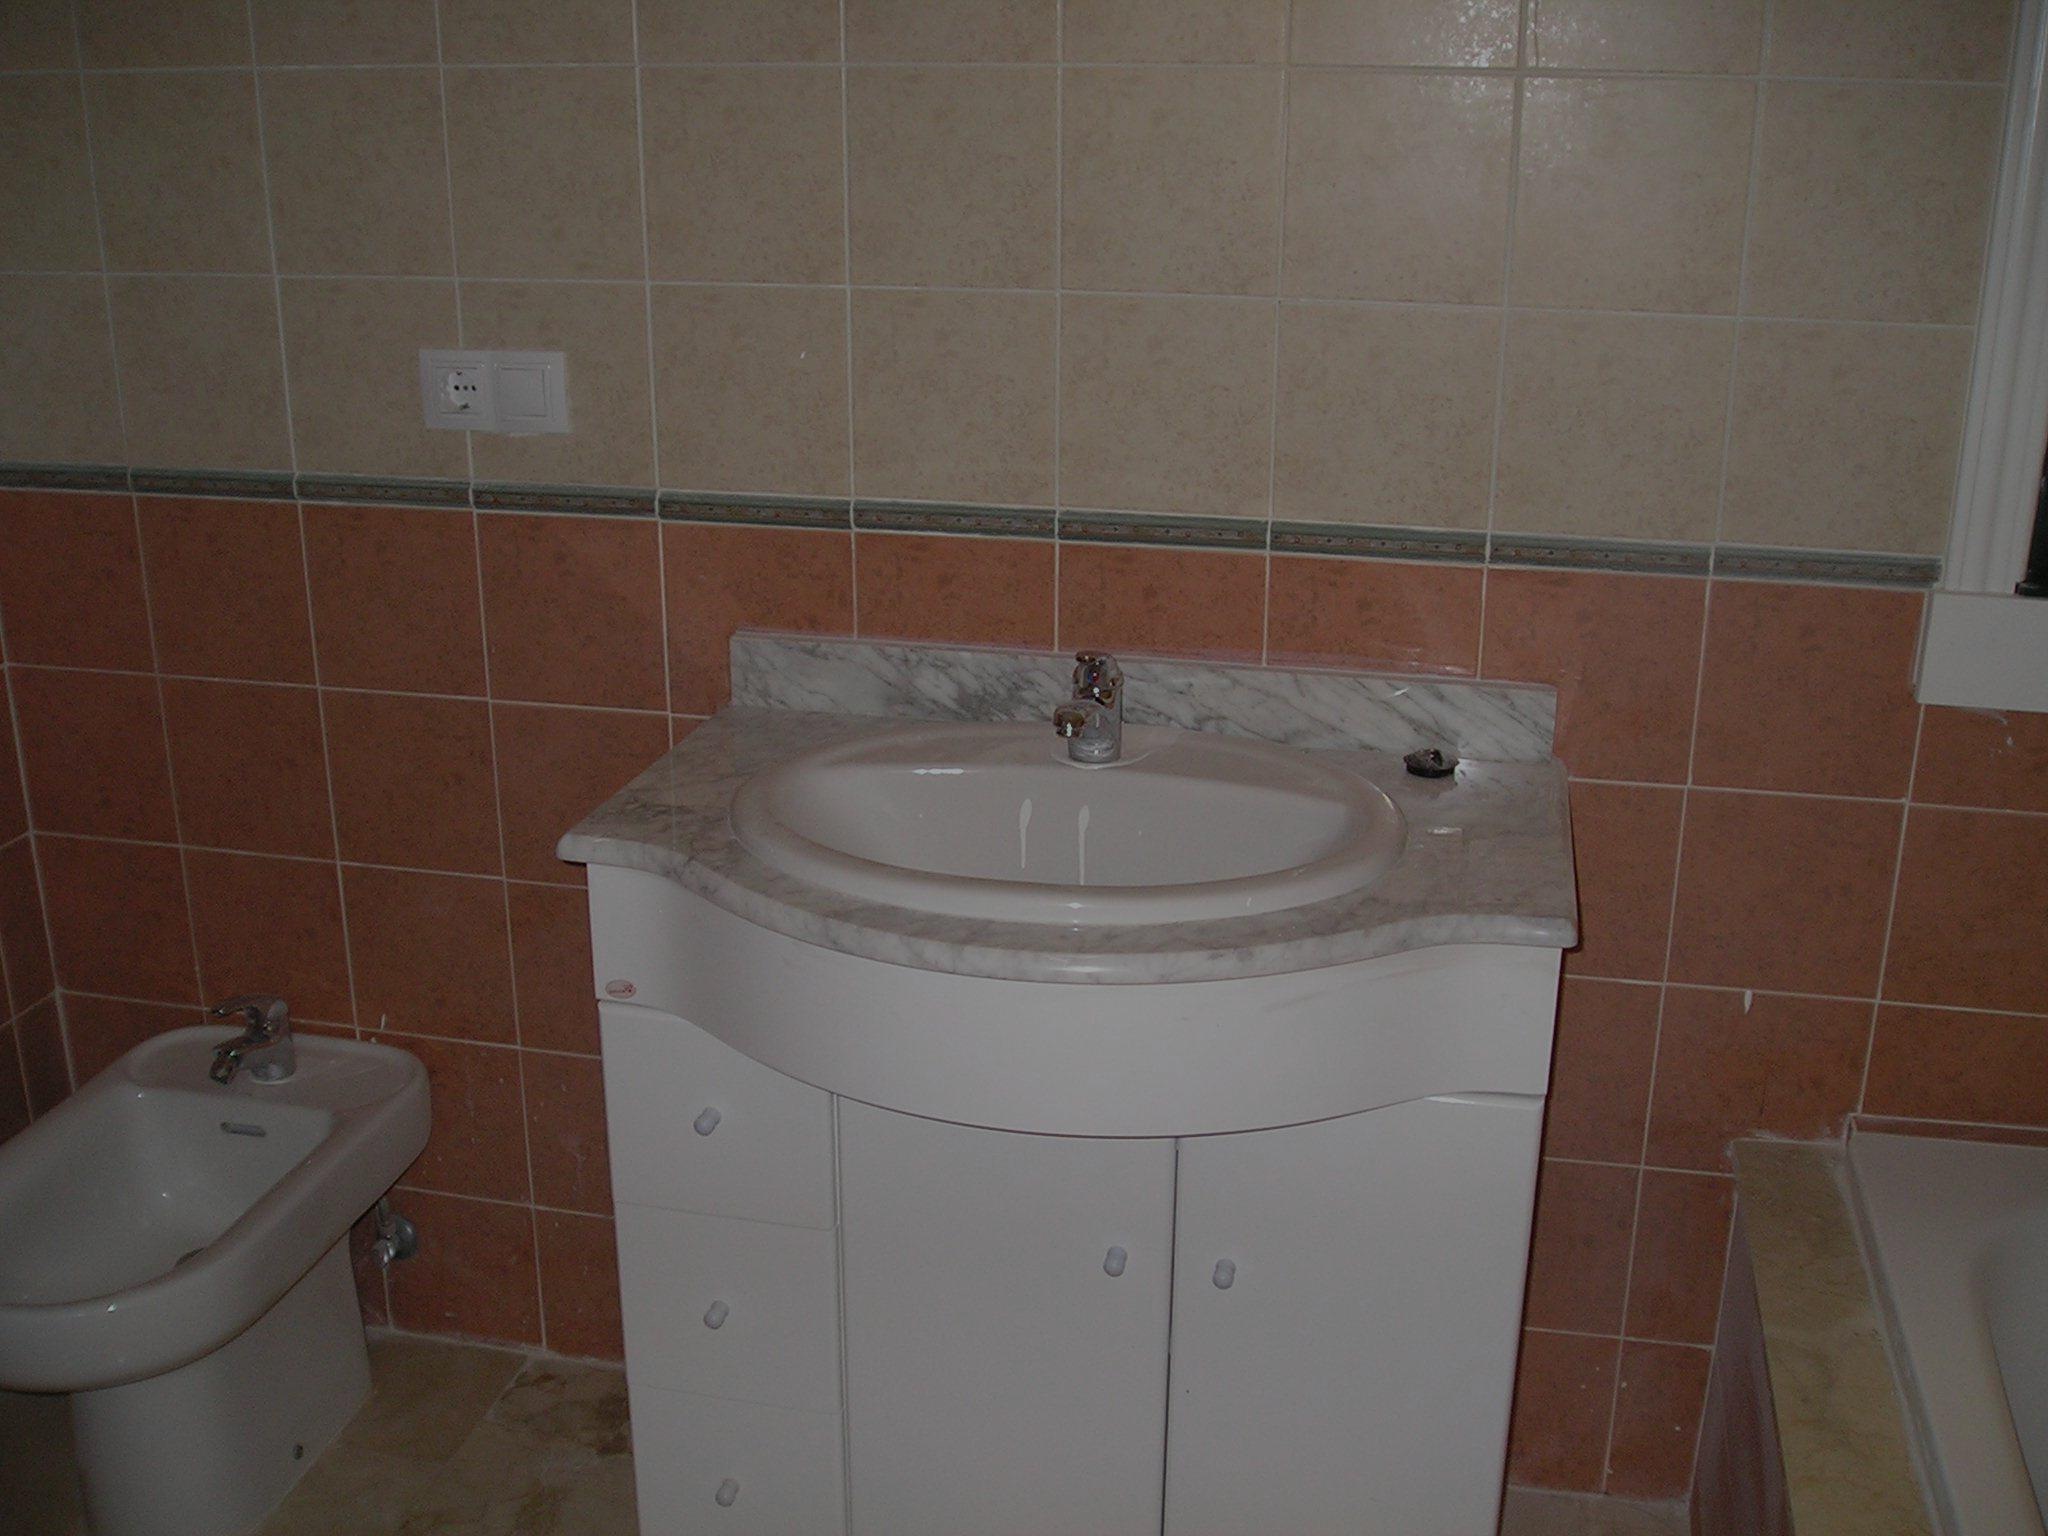Lavamanos: (724, 636, 1409, 920)
Sanitario: (15, 983, 410, 1530)
